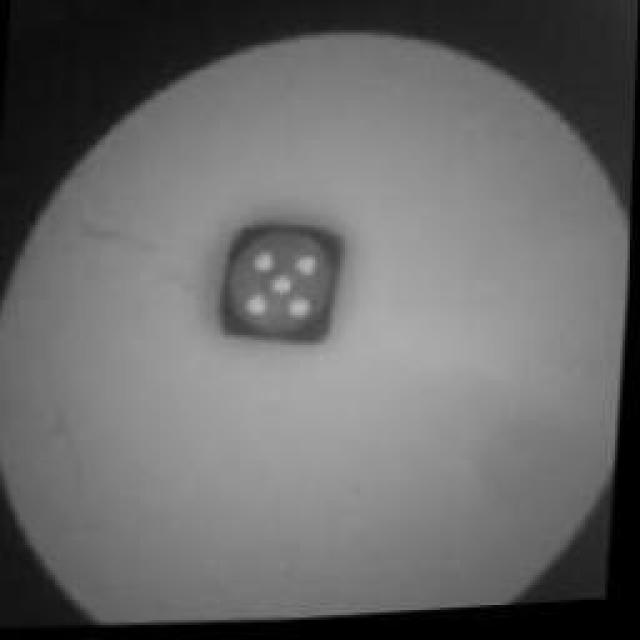dice_5: (217, 215, 355, 365)
